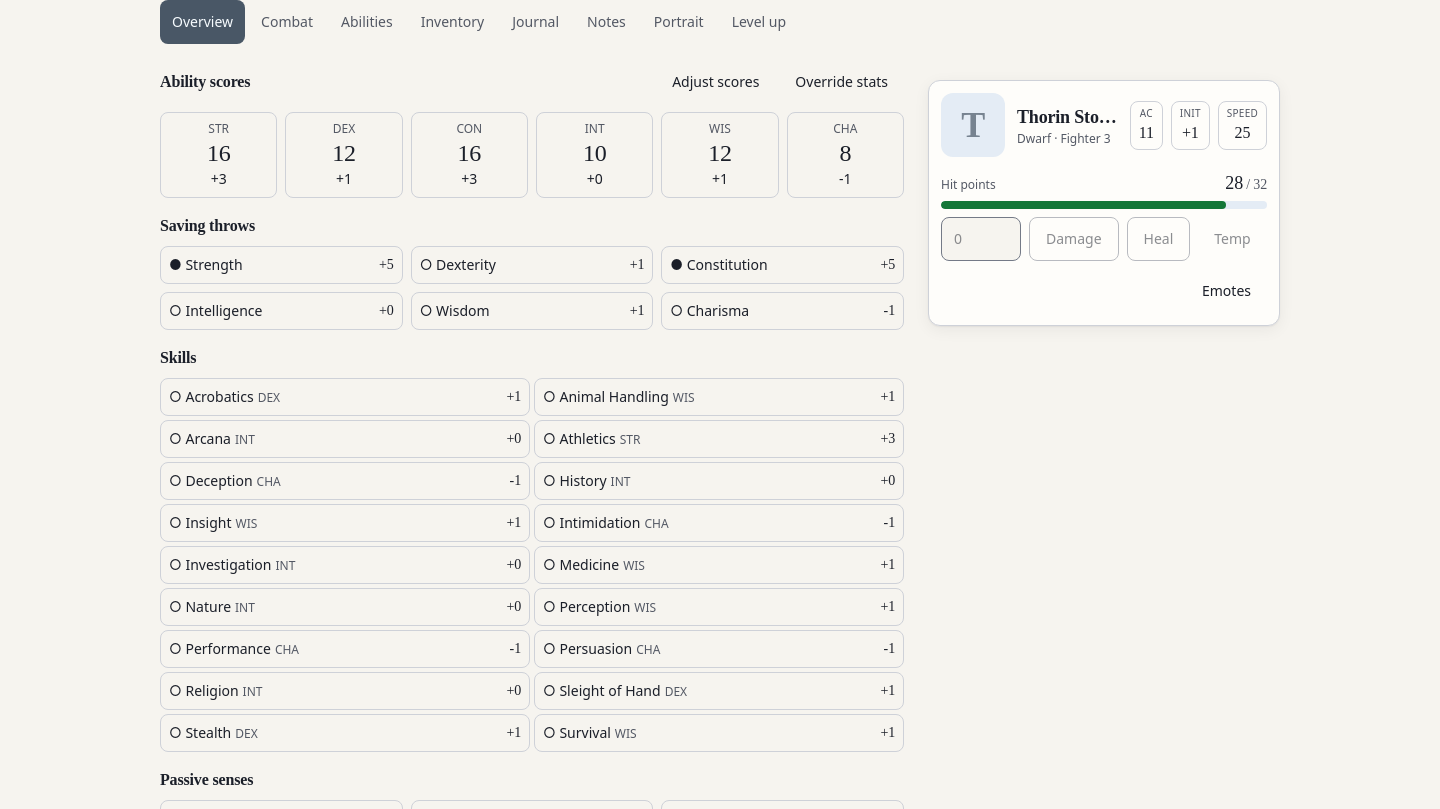
Test: stat overrides › overrides armour class and marks it as no longer calculated
expect the heading "Thorin Stonefist" is shown: met, box x1=1017 y1=103 x2=1118 y2=131
Click the button "Override stats": (842, 82) x1=779 y1=60 x2=904 y2=104
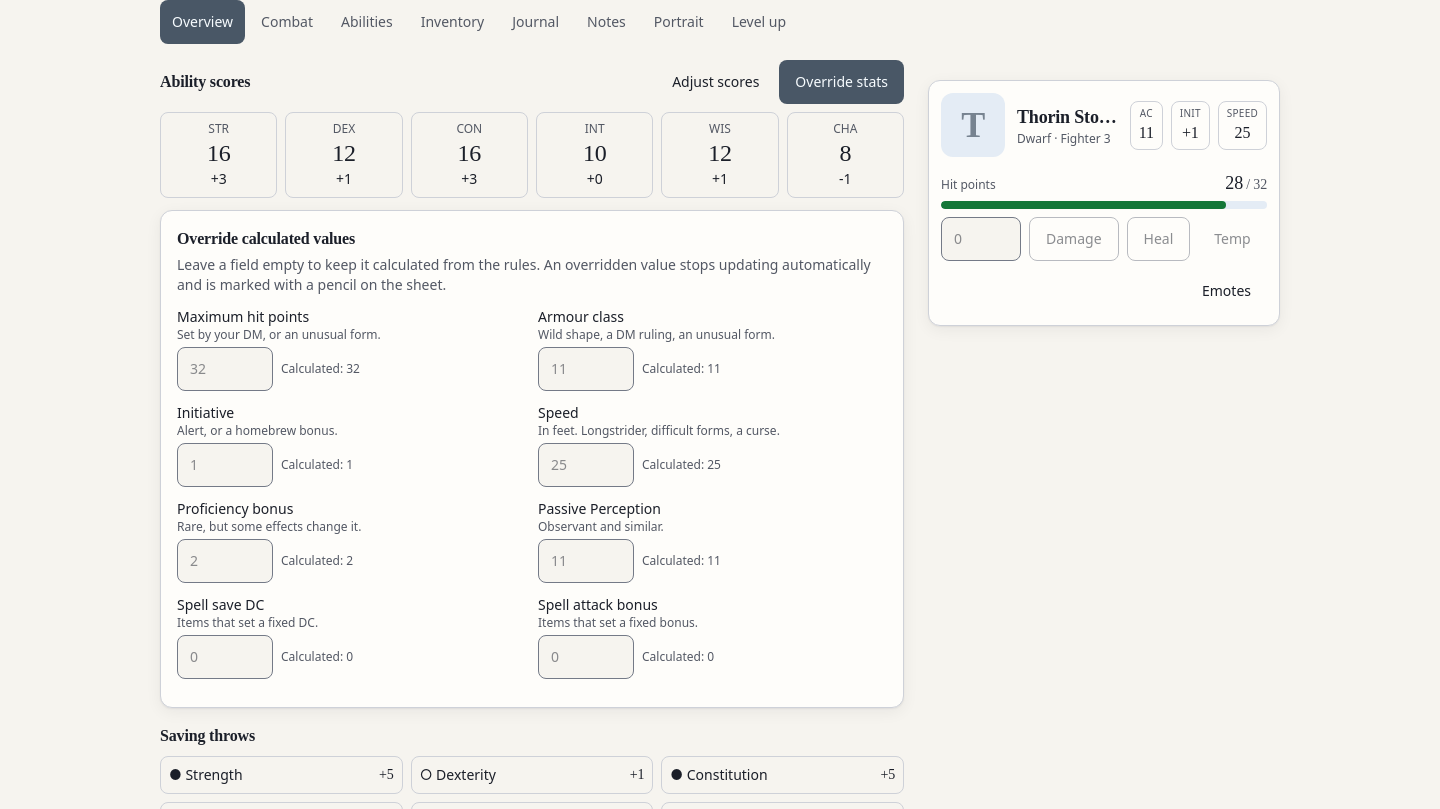
In the number field labelled "Armour class": (586, 369) x1=538 y1=347 x2=634 y2=391, type "21"
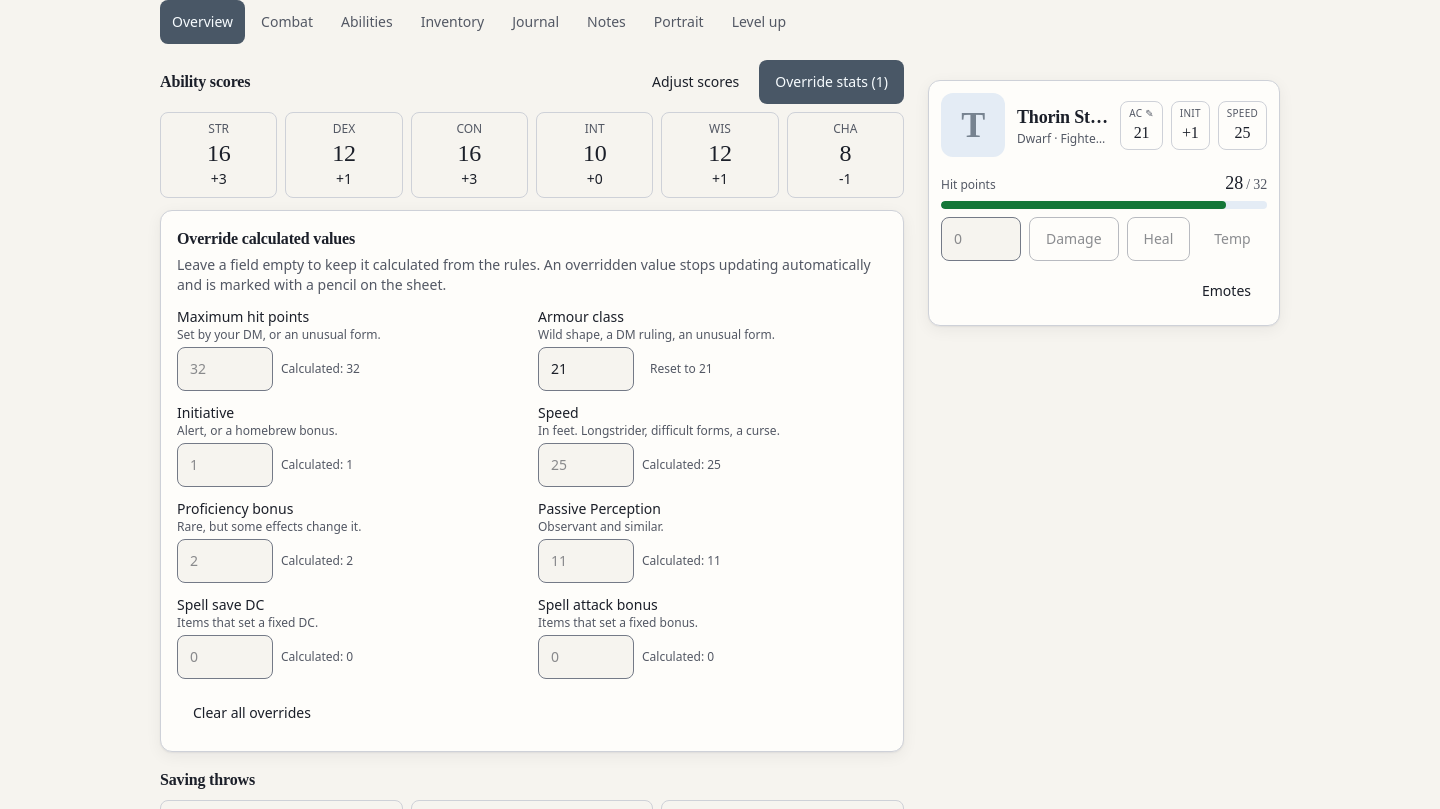
expect the text "21" is shown: met, box x1=1134 y1=124 x2=1149 y2=140
